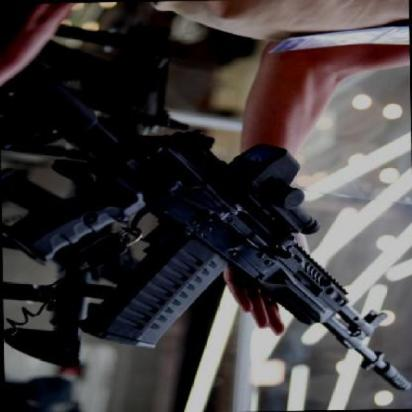Gun: (0, 46, 406, 378)
